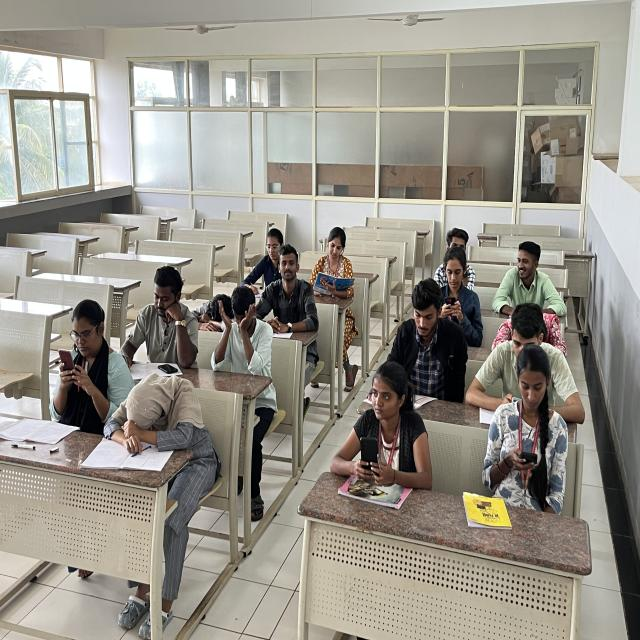Reading: (112, 250, 198, 382), (306, 228, 357, 299)
Sleeping: (76, 373, 216, 487)
Using Phone: (474, 349, 578, 494), (330, 365, 437, 488), (47, 292, 131, 418), (429, 250, 486, 328)
Writing: (380, 269, 472, 416), (228, 220, 296, 292)
